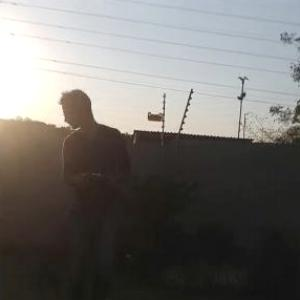follow: (54, 85, 138, 299)
